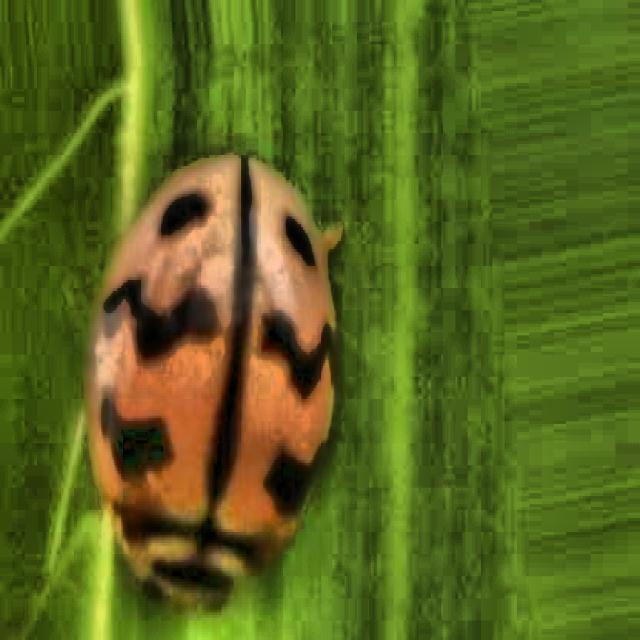Asian-Lady-beetle: (25, 72, 487, 640)
